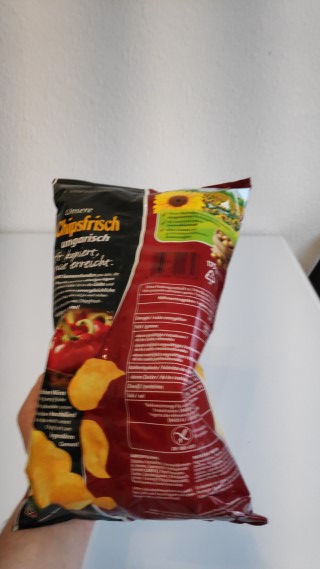chipsfrisch: (9, 175, 268, 530)
